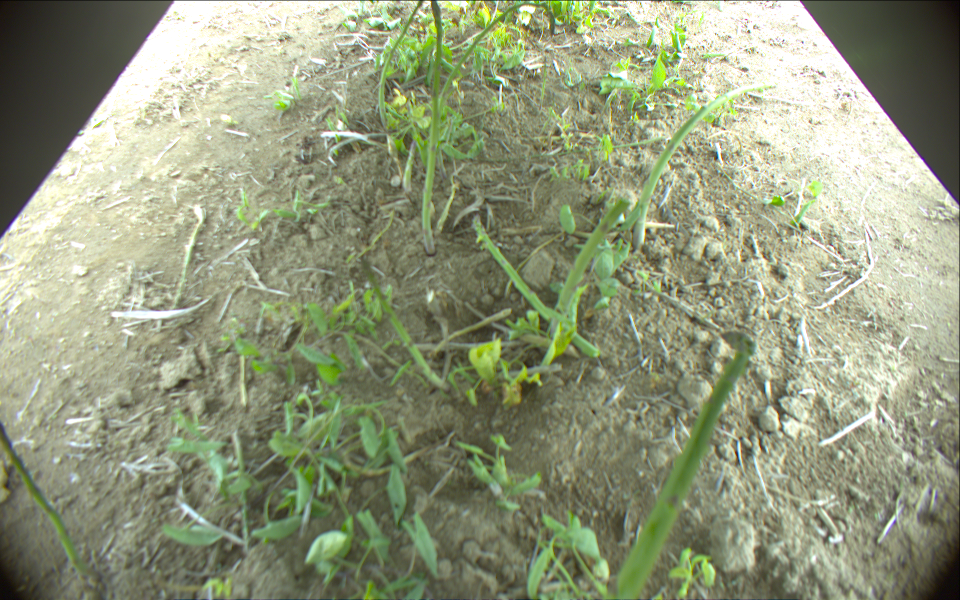aspa: (607, 330, 754, 600), (631, 76, 779, 247), (471, 213, 601, 357), (1, 421, 89, 582), (435, 1, 556, 110), (355, 254, 447, 390), (550, 197, 631, 343), (379, 1, 425, 135), (421, 1, 444, 252), (402, 137, 419, 191)
